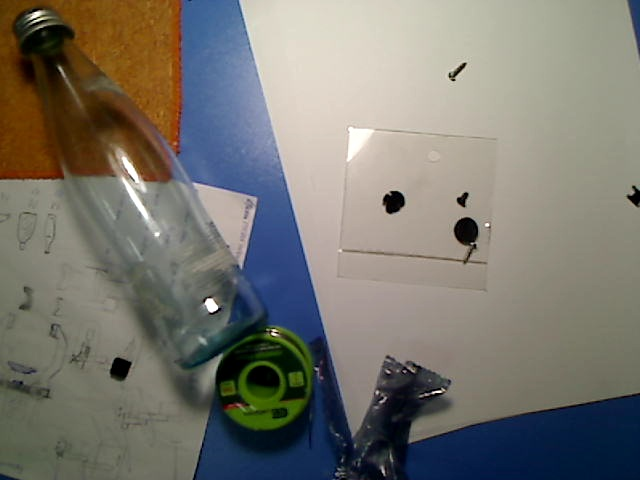bottle: (11, 5, 270, 372)
